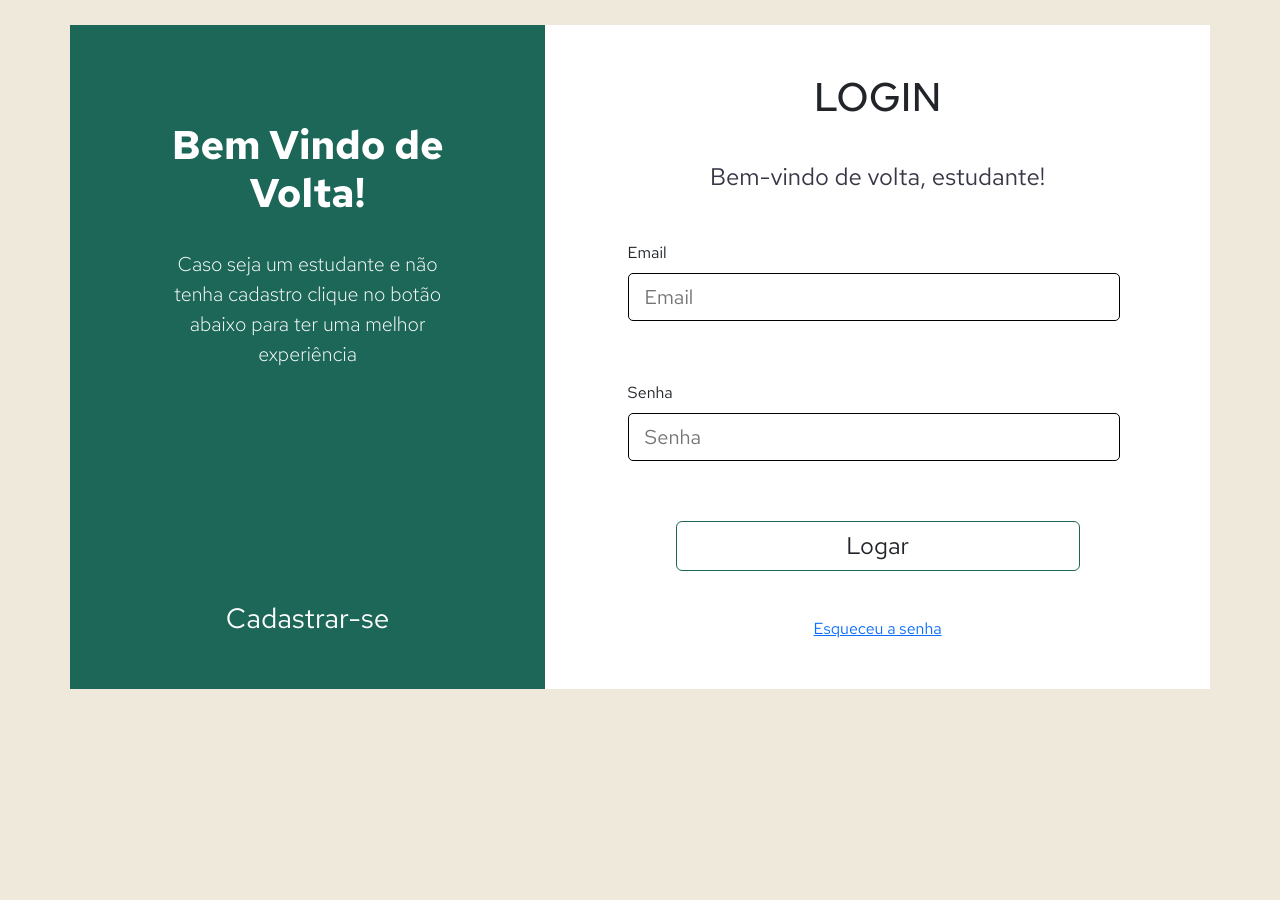
Login Component › shows error message when form is submitted without filling required fields
This screenshot has width=1280, height=900.
Click the button "Logar" at point(878, 546), box 676,521 -> 1080,571
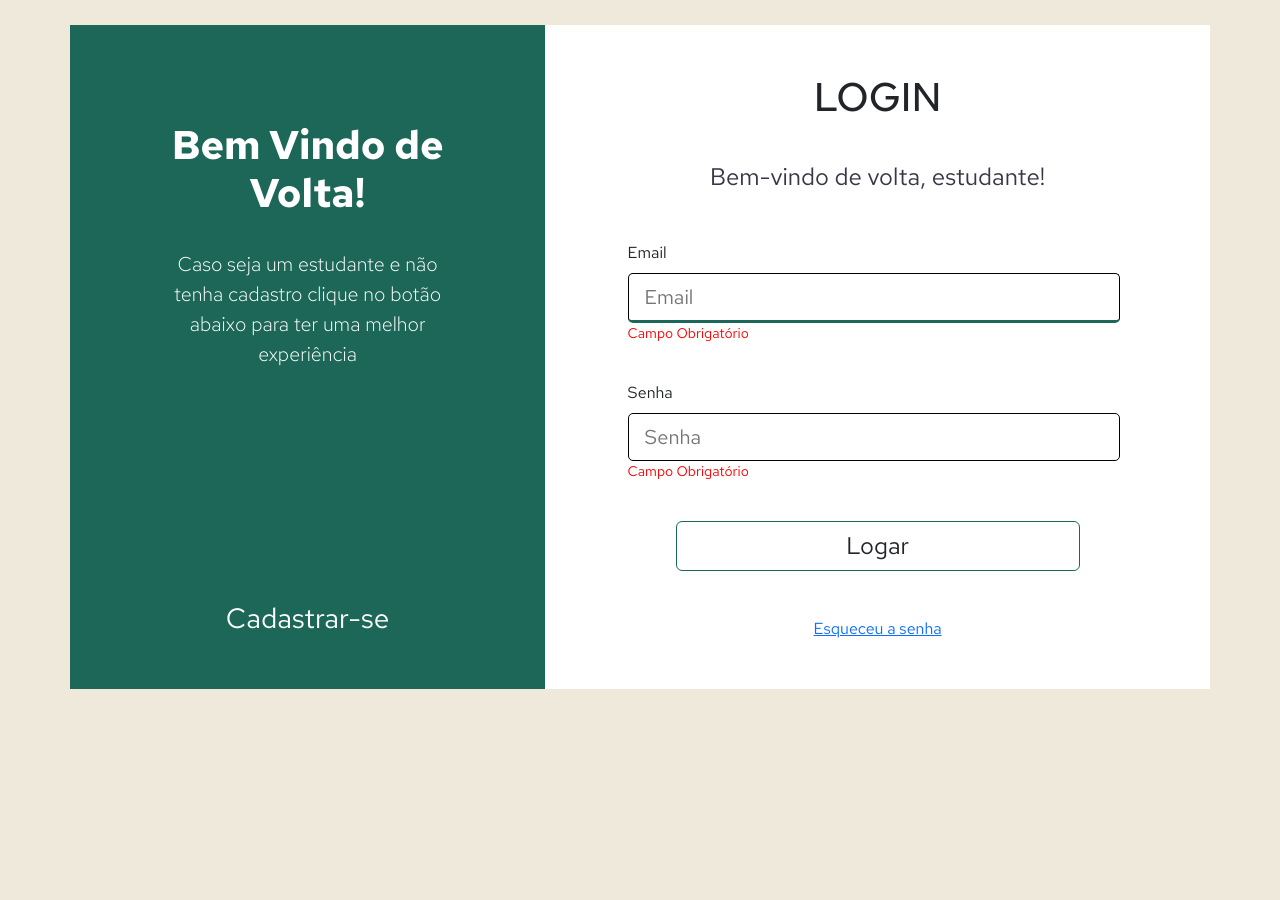
expect the text "Campo Obrigatório" is shown 2 times: met, box 628,324 -> 749,342; 628,462 -> 749,480
